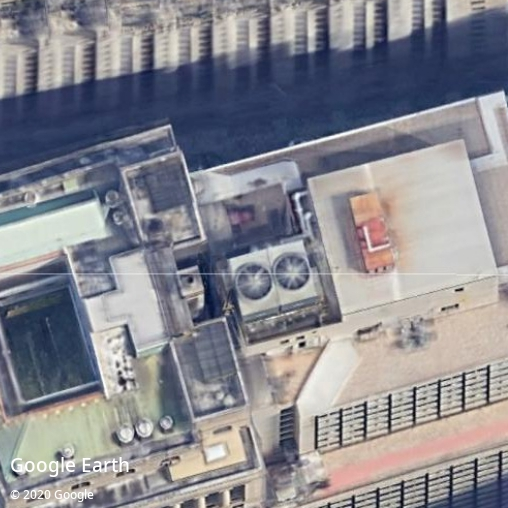Vent: (237, 263, 273, 300), (275, 255, 311, 292)
